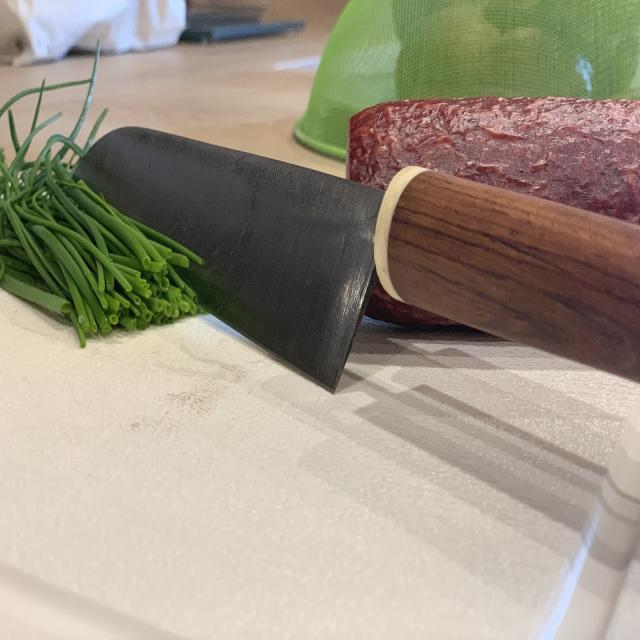Knife: (78, 127, 640, 390)
